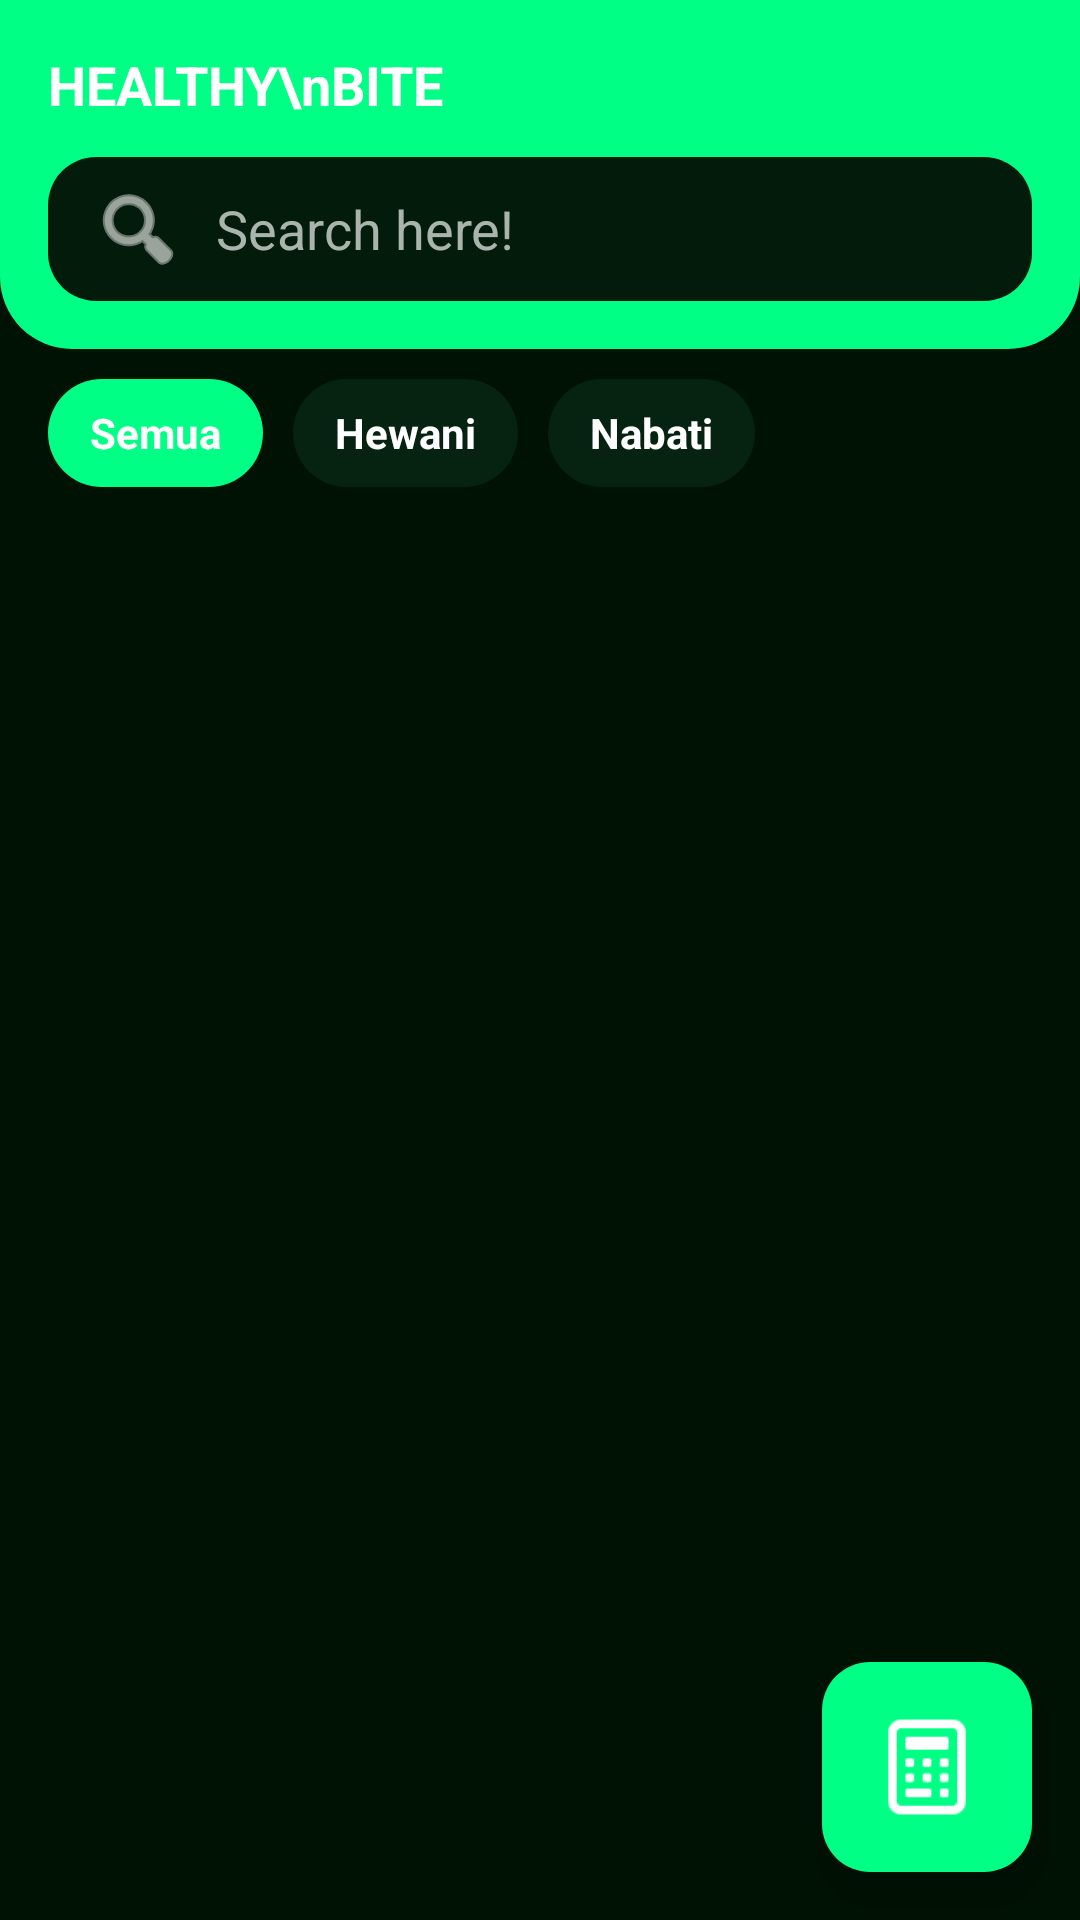

Icons on this 1080 x 1920 Android screen, each with its box as (x1=x1, y1=y1, x2=x2, y2=y2):
Kalkulator Kalori: (x1=822, y1=1662, x2=1032, y2=1872)
